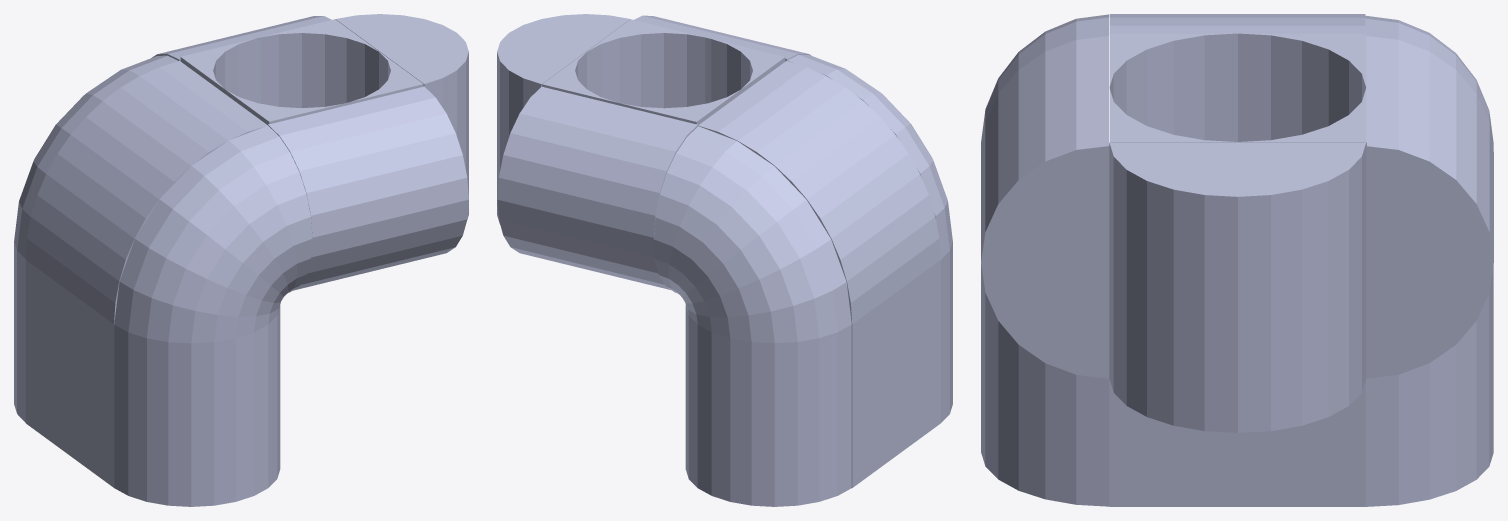
3 views of the same model, side by side, from view 1: azimuth 30°, elevation 25°; view 2: azimuth 150°, elevation 25°; view 3: azimuth 270°, elevation 25° (orthographic). The views are drawn at different scales.
Visible parts, largest first — view 1: modelo006; view 2: modelo006; view 3: modelo006.
Boxes of the visible parts, x1,y1,x2,y2 form: modelo006: [14, 14, 468, 506]; modelo006: [497, 14, 952, 506]; modelo006: [981, 14, 1493, 506].
Bounding box in the file's own units: 0.0827 × 0.0671 × 0.0658.
